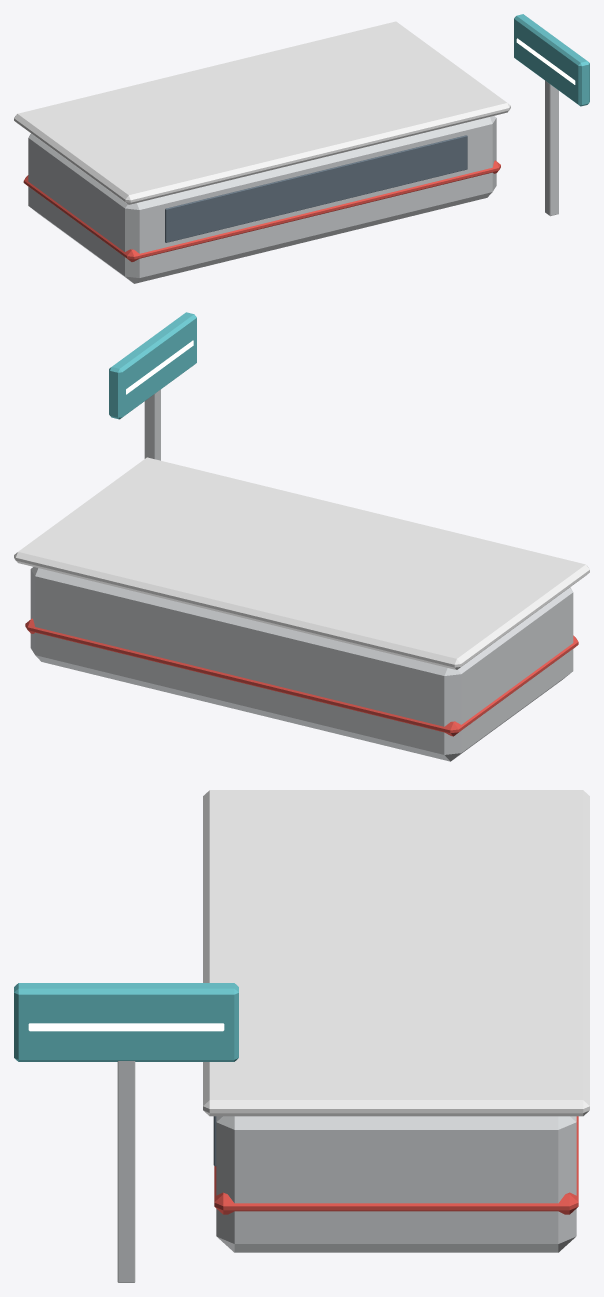
Rendered from diner.glb.
3 renders of one model, top to bottom at view 1: azimuth 30°, elevation 25°; view 2: azimuth 150°, elevation 25°; view 3: azimuth 270°, elevation 25°, orthographic. The views are drawn at different scales.
Visible parts, largest first — view 1: diner; view 2: diner; view 3: diner.
Part boxes in pixels (bbox=[...]): diner: bbox=[14, 14, 589, 283]; diner: bbox=[14, 312, 589, 761]; diner: bbox=[14, 790, 589, 1282].
Bounding box in the file's own units: 17.57 × 7.2 × 12.8.
